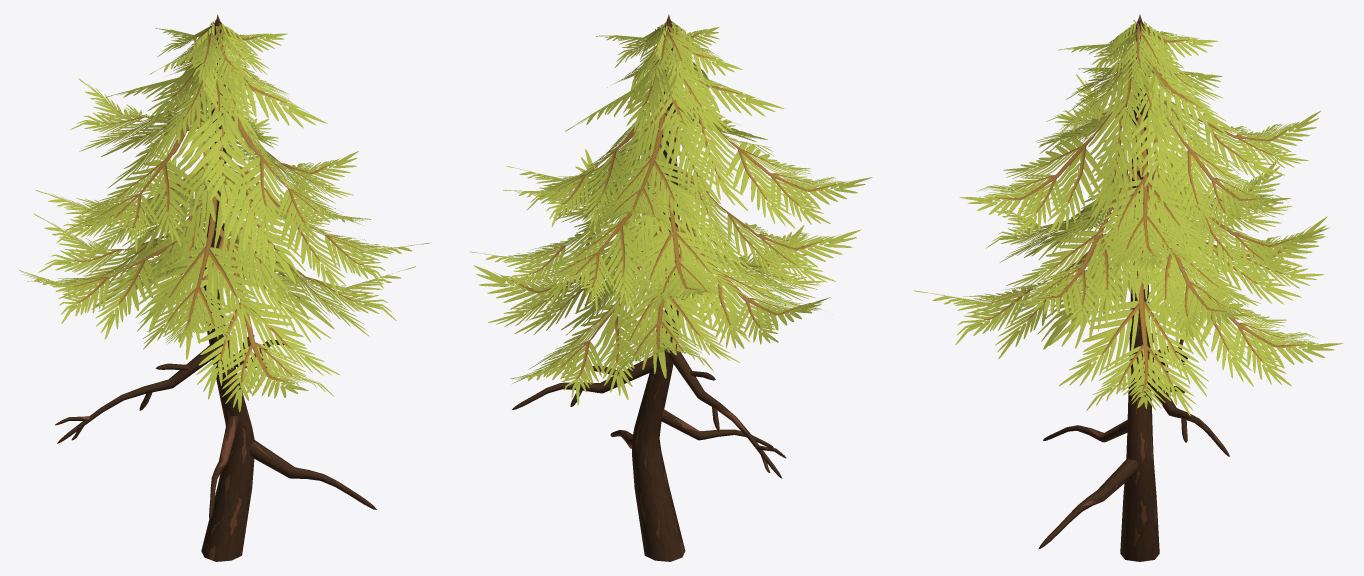
The model's file is texturedPine.glb.
3 views of the same model, side by side, from view 1: azimuth 30°, elevation 25°; view 2: azimuth 150°, elevation 25°; view 3: azimuth 270°, elevation 25° (orthographic).
Visible parts, largest first — view 1: PineTree_3; view 2: PineTree_3; view 3: PineTree_3.
Boxes of the visible parts, box(x1,y1,x2,y2) form: PineTree_3: box(19, 14, 429, 561); PineTree_3: box(469, 14, 872, 561); PineTree_3: box(913, 14, 1343, 561).
Bounding box in the file's own units: 176 × 235 × 175.
2 materials, 2 textured.
